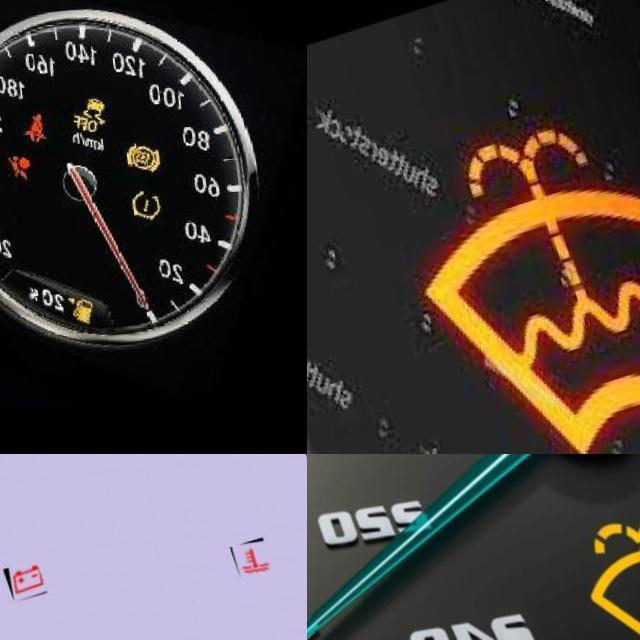Washer Fluid: (399, 126, 640, 454)
